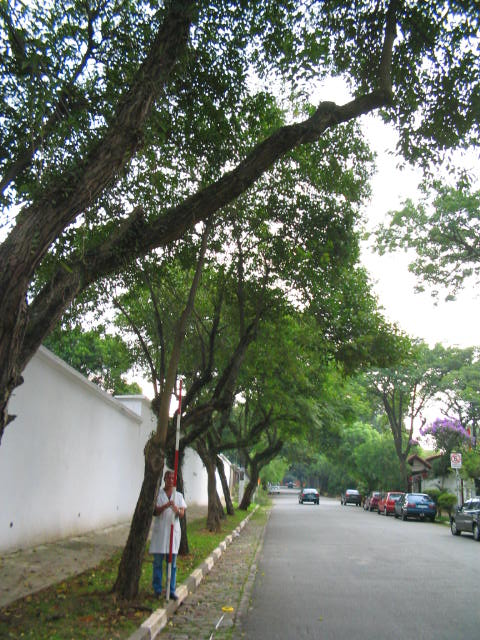crown: (18, 89, 374, 352)
stem: (103, 386, 162, 601)
stick: (163, 379, 185, 599)
tree: (13, 88, 377, 603)
